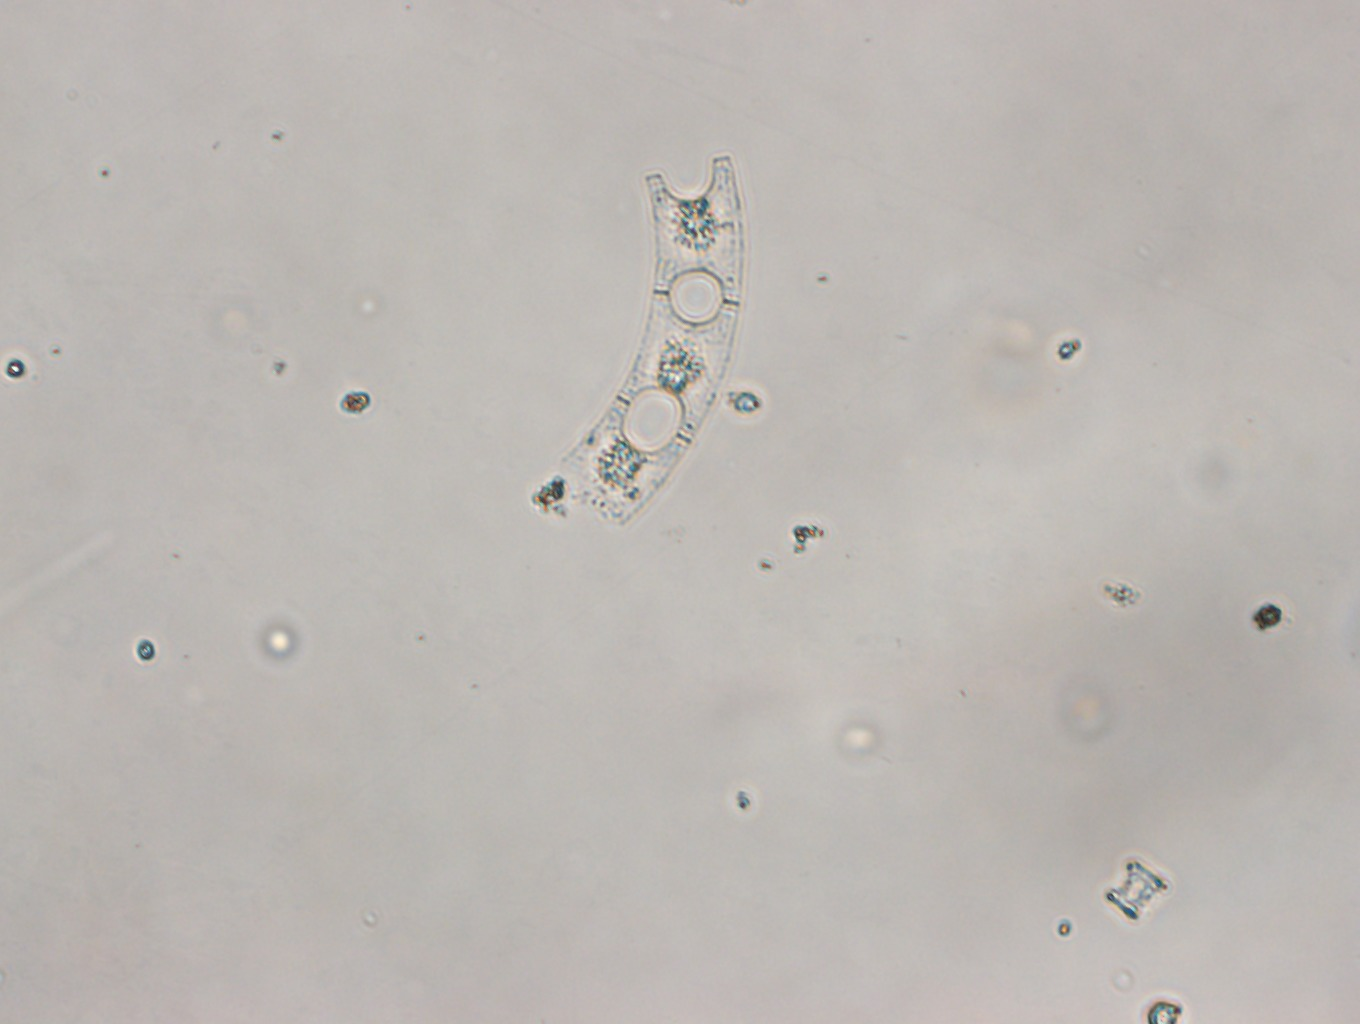eucampia: (553, 143, 758, 524)
